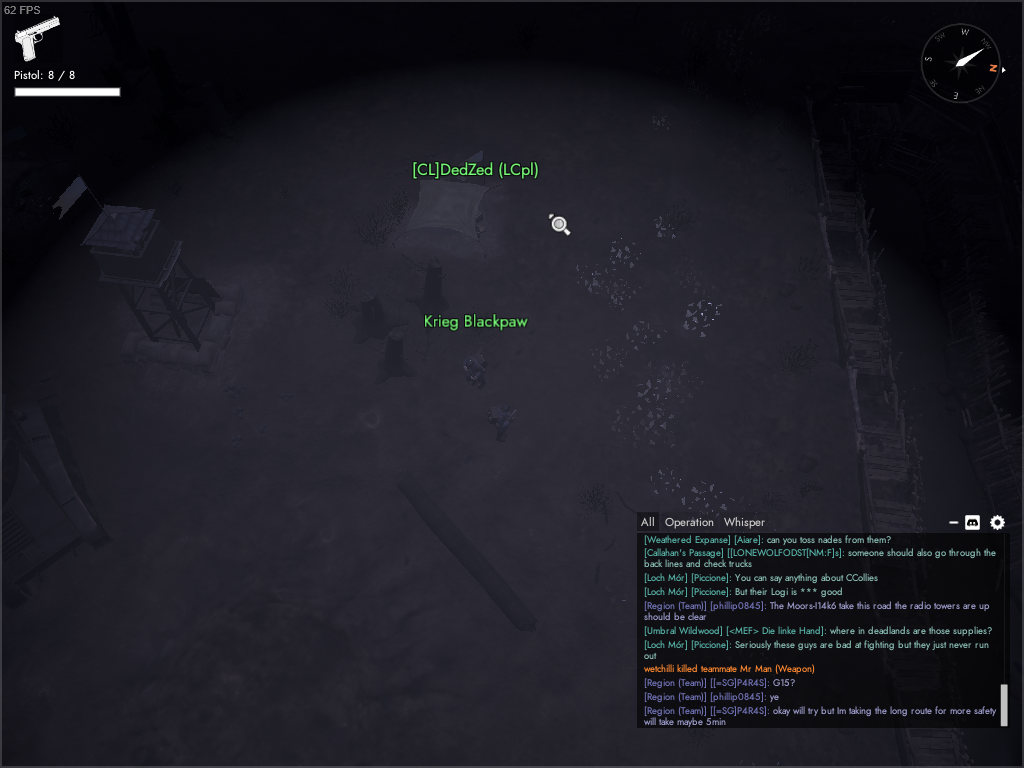foxhole: (389, 148, 502, 259)
player: (487, 404, 518, 442), (462, 353, 491, 391)
watchtower: (51, 176, 247, 378)
